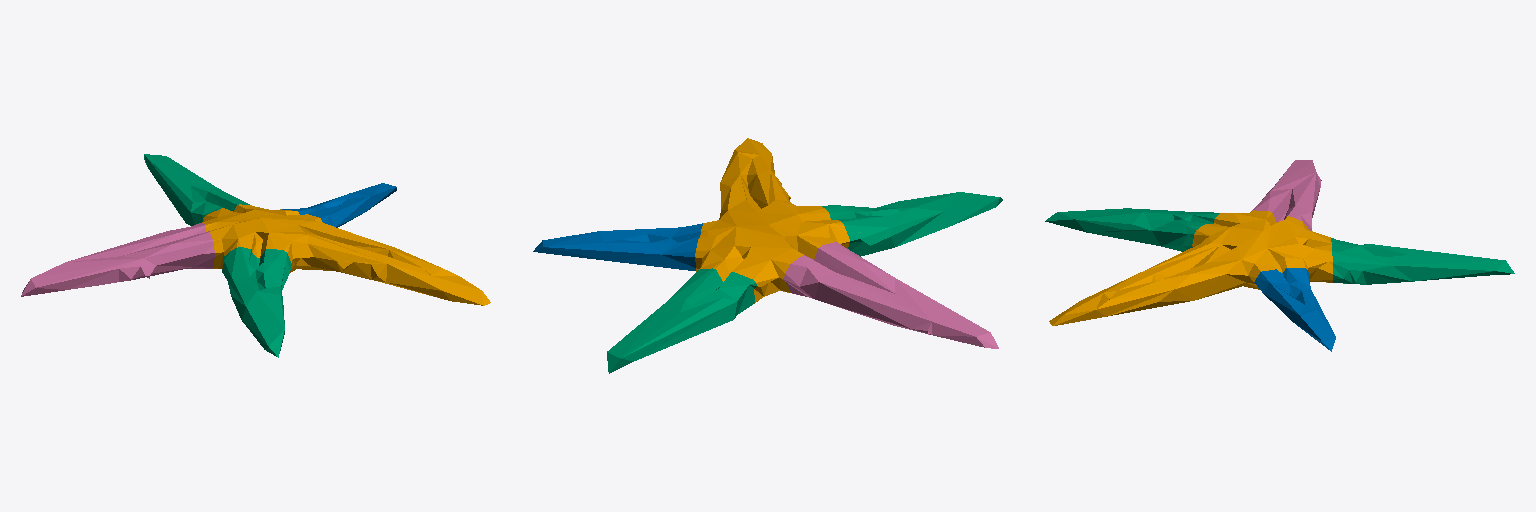
URDF robot description (starfish):
<?xml version="1.0"?>
<robot name="starfish">

  <link name="central">
    <inertial>
      <mass value="100"/>
      <inertia ixx="1E-00" ixy="0" ixz="0" iyy="1E-00" iyz="0" izz="1E-00"/>
      <origin xyz="0 0 0." />
    </inertial>
    <visual>
      <origin rpy="0 0 0" xyz="0 0 0"/>
      <geometry>
        <mesh filename="package://starfish-soft/central.stl" scale="1 1 1"/>
      </geometry>
    </visual>
    <collision>
      <origin rpy="0 0 0" xyz="0 0 0"/>
      <geometry>
        <mesh filename="package://starfish-soft/central.stl" scale="1 1 1" />
      </geometry>
    </collision>
  </link>


  <joint name="joint11" type="revolute">
    <parent link="central"/>
    <child link="mid1"/>
    <origin rpy="0 0 0" xyz="0 0.368 0"/> 
    <axis xyz="0 0 1"/> 
    <limit effort="1000" lower="-.5" upper=".5" velocity="50"/>
    <dynamics damping="0.001" friction="0.001"/>
  </joint>
  <link name="mid1">
    <inertial>
      <mass value="1"/>
      <inertia ixx="1E-03" ixy="0" ixz="0" iyy="1E-03" iyz="0" izz="1E-03"/>
      <origin xyz="0 0 0." />
    </inertial>
    <visual>
      <origin rpy="0 0 0" xyz="0 0 0"/>
      <geometry>
        <box size="0.01 0.01 0.01" />
      </geometry>
    </visual>
    <collision>
      <origin rpy="0 0 0" xyz="0 0 0"/>
      <geometry>
        <box size="0.01 0.01 0.01" />
      </geometry>
    </collision>
  </link>

  <joint name="joint12" type="revolute">
    <parent link="mid1"/>
    <child link="arm1"/>
    <origin rpy="0 0 0" xyz="0 0 0"/> 
    <axis xyz="0.99939 0.0349 0"/> 
    <limit effort="1000" lower="-.5" upper=".5" velocity="50"/>
    <dynamics damping="0.001" friction="0.001"/>
  </joint>
  <link name="arm1">
    <inertial>
      <mass value="50"/>
      <inertia ixx="1E-02" ixy="0" ixz="0" iyy="1E01" iyz="0" izz="1E-02"/>
      <origin xyz="0 0.74 0" />
    </inertial>
    <visual>
      <origin rpy="0 0 0" xyz="0 -0.368 0"/>
      <geometry>
        <mesh filename="package://starfish-soft/arm1.stl" scale="1 1 1"/>
      </geometry>
    </visual>
    <collision>
      <origin rpy="0 0 0" xyz="0 -0.368 0"/>
      <geometry>
        <mesh filename="package://starfish-soft/arm1.stl" scale="1 1 1" />
      </geometry>
    </collision>
  </link>


  <joint name="joint21" type="revolute">
    <parent link="central"/>
    <child link="mid2"/>
    <origin rpy="0 0 0" xyz="0.274 0.112 0"/> 
    <axis xyz="0 0 1"/>
    <limit effort="1000" lower="-.5" upper=".5" velocity="50"/>
    <dynamics damping="0.001" friction="0.001"/>
  </joint>
  <link name="mid2">
    <inertial>
      <mass value="1"/>
      <inertia ixx="1E-03" ixy="0" ixz="0" iyy="1E-03" iyz="0" izz="1E-03"/>
      <origin xyz="0 0 0." />
    </inertial>
    <visual>
      <origin rpy="0 0 0" xyz="0 0 0"/>
      <geometry>
        <box size="0.01 0.01 0.01" />
      </geometry>
    </visual>
    <collision>
      <origin rpy="0 0 0" xyz="0 0 0"/>
      <geometry>
        <box size="0.01 0.01 0.01" />
      </geometry>
    </collision>
  </link>

  <joint name="joint22" type="revolute">
    <parent link="mid2"/>
    <child link="arm2"/>
    <origin rpy="0 0 0" xyz="0 0 0"/> 
    <axis xyz="0.37415 -0.92718 0"/>
    <limit effort="1000" lower="-.5" upper=".5" velocity="50"/>
    <dynamics damping="0.001" friction="0.001"/>
  </joint>
  <link name="arm2">
    <inertial>
      <mass value="50"/>
      <inertia ixx="1E00" ixy="0" ixz="0" iyy="1E01" iyz="0" izz="1E-02"/>
      <origin xyz="0.548 0.224 0." />
    </inertial>
    <visual>
      <origin rpy="0 0 0" xyz="-0.274 -0.112 0"/>
      <geometry>
        <mesh filename="package://starfish-soft/arm2.stl" scale="1 1 1"/>
      </geometry>
    </visual>
    <collision>
      <origin rpy="0 0 0" xyz="-0.274 -0.112 0"/>
      <geometry>
        <mesh filename="package://starfish-soft/arm2.stl" scale="1 1 1" />
      </geometry>
    </collision>
  </link>


  <joint name="joint31" type="revolute">
    <parent link="central"/>
    <child link="mid3"/>
    <origin rpy="0 0 0" xyz="-0.295 0.100 0"/> 
    <axis xyz="0 0 1"/>
    <limit effort="1000" lower="-.5" upper=".5" velocity="50"/>
    <dynamics damping="0.001" friction="0.001"/>
  </joint>
  <link name="mid3">
    <inertial>
      <mass value="1"/>
      <inertia ixx="1E-03" ixy="0" ixz="0" iyy="1E-03" iyz="0" izz="1E-03"/>
      <origin xyz="0 0 0." />
    </inertial>
    <visual>
      <origin rpy="0 0 0" xyz="0 0 0"/>
      <geometry>
        <box size="0.01 0.01 0.01" />
      </geometry>
    </visual>
    <collision>
      <origin rpy="0 0 0" xyz="0 0 0"/>
      <geometry>
        <box size="0.01 0.01 0.01" />
      </geometry>
    </collision>
  </link>

  <joint name="joint32" type="revolute">
    <parent link="mid3"/>
    <child link="arm3"/>
    <origin rpy="0 0 0" xyz="0 0 0"/> 
    <axis xyz="0.309 0.951 0"/>
    <limit effort="1000" lower="-.5" upper=".5" velocity="50"/>
    <dynamics damping="0.001" friction="0.001"/>
  </joint>
  <link name="arm3">
    <inertial>
      <mass value="50"/>
      <inertia ixx="1E-01" ixy="0" ixz="0" iyy="1E01" iyz="0" izz="1E-02"/>
      <origin xyz="-0.6 0.200 0." />
    </inertial>
    <visual>
      <origin rpy="0 0 0" xyz="0.295 -0.100 0"/>
      <geometry>
        <mesh filename="package://starfish-soft/arm3.stl" scale="1 1 1"/>
      </geometry>
    </visual>
    <collision>
      <origin rpy="0 0 0" xyz="0.295 -0.100 0"/>
      <geometry>
        <mesh filename="package://starfish-soft/arm3.stl" scale="1 1 1" />
      </geometry>
    </collision>
  </link>


  <joint name="joint41" type="revolute">
    <parent link="central"/>
    <child link="mid4"/>
    <origin rpy="0 0 0" xyz="0.247 -0.228 0"/> 
    <axis xyz="0 0 1"/>
    <limit effort="1000" lower="-.5" upper=".5" velocity="50"/>
    <dynamics damping="0.001" friction="0.001"/>
  </joint>
  <link name="mid4">
    <inertial>
      <mass value="1"/>
      <inertia ixx="1E-03" ixy="0" ixz="0" iyy="1E-03" iyz="0" izz="1E-03"/>
      <origin xyz="0 0 0." />
    </inertial>
    <visual>
      <origin rpy="0 0 0" xyz="0 0 0"/>
      <geometry>
        <box size="0.01 0.01 0.01" />
      </geometry>
    </visual>
    <collision>
      <origin rpy="0 0 0" xyz="0 0 0"/>
      <geometry>
        <box size="0.01 0.01 0.01" />
      </geometry>
    </collision>
  </link>

  <joint name="joint42" type="revolute">
    <parent link="mid4"/>
    <child link="arm4"/>
    <origin rpy="0 0 0" xyz="0 0 0"/> 
    <axis xyz="-0.669 -0.743 0"/>
    <limit effort="1000" lower="-.5" upper=".5" velocity="50"/>
    <dynamics damping="0.001" friction="0.001"/>
  </joint>
  <link name="arm4">
    <inertial>
      <mass value="50"/>
      <inertia ixx="5E00" ixy="0" ixz="0" iyy="2E01" iyz="0" izz="1E-02"/>
      <origin xyz="0.50 -0.46 0." />
    </inertial>
    <visual>
      <origin rpy="0 0 0" xyz="-0.247 0.228 0"/>
      <geometry>
        <mesh filename="package://starfish-soft/arm4.stl" scale="1 1 1"/>
      </geometry>
    </visual>
    <collision>
      <origin rpy="0 0 0" xyz="-0.247 0.228 0"/>
      <geometry>
        <mesh filename="package://starfish-soft/arm4.stl" scale="1 1 1" />
      </geometry>
    </collision>
  </link>


  <joint name="joint51" type="revolute">
    <parent link="central"/>
    <child link="mid5"/>
    <origin rpy="0 0 0" xyz="-0.186 -0.274 0"/> 
    <axis xyz="0 0 1"/>
    <limit effort="1000" lower="-.5" upper=".5" velocity="50"/>
    <dynamics damping="0.001" friction="0.001"/>
  </joint>
  <link name="mid5">
    <inertial>
      <mass value="1"/>
      <inertia ixx="1E-03" ixy="0" ixz="0" iyy="1E-03" iyz="0" izz="1E-03"/>
      <origin xyz="0 0 0." />
    </inertial>
    <visual>
      <origin rpy="0 0 0" xyz="0 0 0"/>
      <geometry>
        <box size="0.01 0.01 0.01" />
      </geometry>
    </visual>
    <collision>
      <origin rpy="0 0 0" xyz="0 0 0"/>
      <geometry>
        <box size="0.01 0.01 0.01" />
      </geometry>
    </collision>
  </link>

  <joint name="joint52" type="revolute">
    <parent link="mid5"/>
    <child link="arm5"/>
    <origin rpy="0 0 0" xyz="0 0 0"/> 
    <axis xyz="-0.829 0.559 0"/>
    <limit effort="1000" lower="-.5" upper=".5" velocity="50"/>
    <dynamics damping="0.001" friction="0.001"/>
  </joint>
  <link name="arm5">
    <inertial>
      <mass value="50"/>
      <inertia ixx="5E00" ixy="0" ixz="0" iyy="2E01" iyz="0" izz="1E-02"/>
      <origin xyz="-0.37 -0.55 0." />
    </inertial>
    <visual>
      <origin rpy="0 0 0" xyz="0.186 0.274 0"/>
      <geometry>
        <mesh filename="package://starfish-soft/arm5.stl" scale="1 1 1"/>
      </geometry>
    </visual>
    <collision>
      <origin rpy="0 0 0" xyz="0.186 0.274 0"/>
      <geometry>
        <mesh filename="package://starfish-soft/arm5.stl" scale="1 1 1" />
      </geometry>
    </collision>
  </link>

</robot>

--- Facts derived from the render (not from the file) ---
3 views of the same robot in one strip: view 1: azimuth 30°, elevation 25°; view 2: azimuth 150°, elevation 25°; view 3: azimuth 270°, elevation 25° (orthographic).
Model starfish with 11 links and 10 joints (10 revolute), rooted at central, posed all joints at 0.
Visible links, largest first — view 1: arm3, arm4, central, arm5, arm1, arm2; view 2: central, arm3, arm1, arm5, arm2, arm4; view 3: central, arm4, arm1, arm5, arm2, arm3.
Boxes of the visible links, left/top/right/bottom form: arm3: left=21, top=223, right=214, bottom=296; arm4: left=320, top=226, right=490, bottom=305; central: left=202, top=204, right=331, bottom=272; arm5: left=222, top=247, right=291, bottom=357; arm1: left=144, top=154, right=249, bottom=225; arm2: left=282, top=183, right=396, bottom=227; central: left=695, top=194, right=849, bottom=303; arm3: left=783, top=242, right=998, bottom=348; arm1: left=607, top=268, right=756, bottom=373; arm5: left=822, top=192, right=1002, bottom=256; arm2: left=533, top=223, right=702, bottom=270; arm4: left=720, top=138, right=790, bottom=214; central: left=1190, top=210, right=1332, bottom=290; arm4: left=1049, top=249, right=1232, bottom=325; arm1: left=1331, top=238, right=1514, bottom=284; arm5: left=1045, top=208, right=1219, bottom=251; arm2: left=1254, top=268, right=1335, bottom=351; arm3: left=1252, top=160, right=1321, bottom=230.
Size in the robot's own frame: 2.34 by 2.47 by 0.2483 metres.
6 mesh visuals loaded from 6 distinct referenced files (6 binary STL).